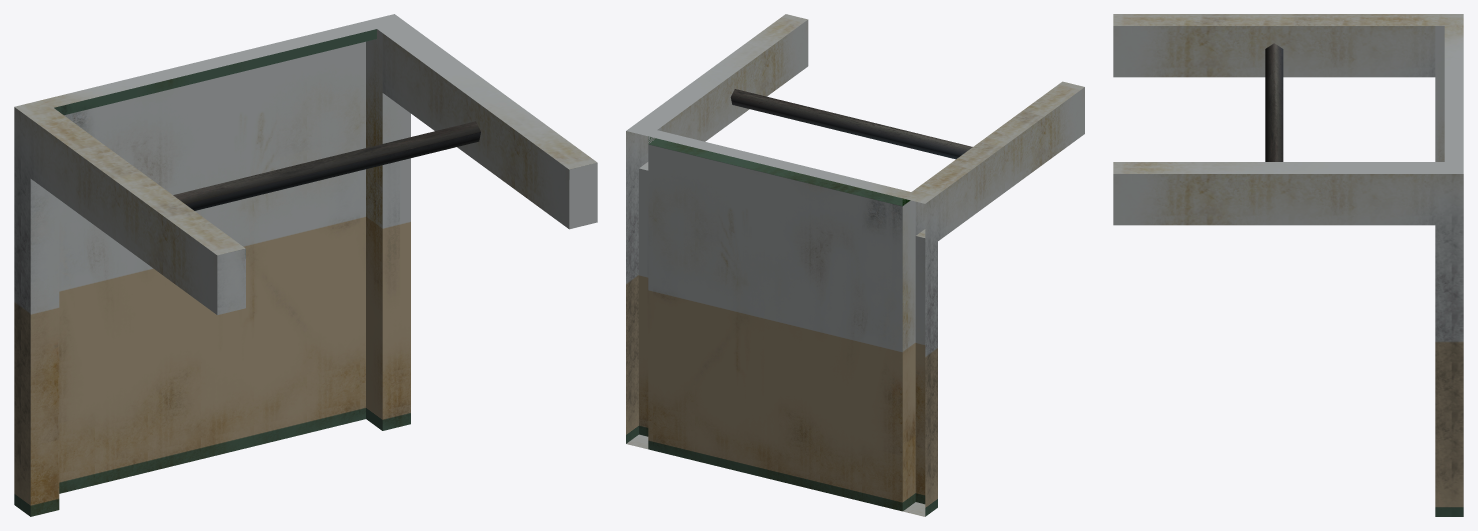
Rendered from Factory_Wall_2.FBX.
3 views of the same model, side by side, from view 1: azimuth 30°, elevation 25°; view 2: azimuth 150°, elevation 25°; view 3: azimuth 270°, elevation 25° (orthographic). The views are drawn at different scales.
Parts seen in each view (by area): view 1: Plane010; view 2: Plane010; view 3: Plane010.
Part boxes in pixels (left/top/right/bottom): Plane010: left=14, top=14, right=597, bottom=516; Plane010: left=626, top=14, right=1084, bottom=516; Plane010: left=1113, top=14, right=1463, bottom=516.
Bounding box in the file's own units: 400 × 400 × 370.
1 material, 1 textured.
